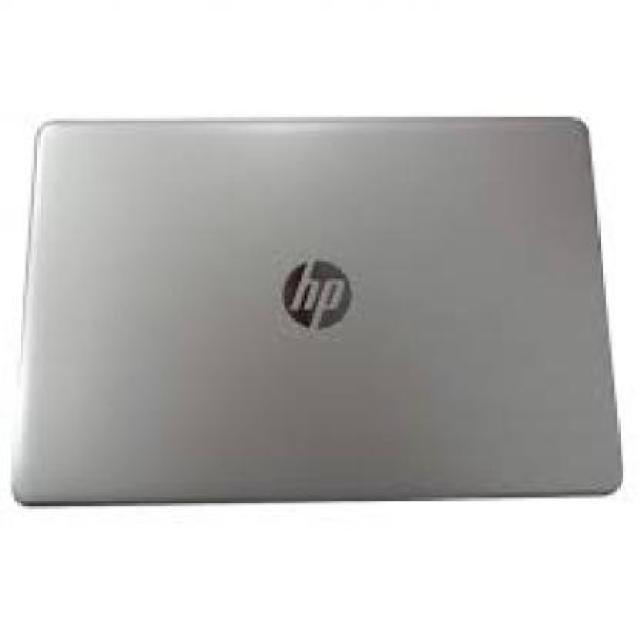laptop: (10, 115, 623, 505)
